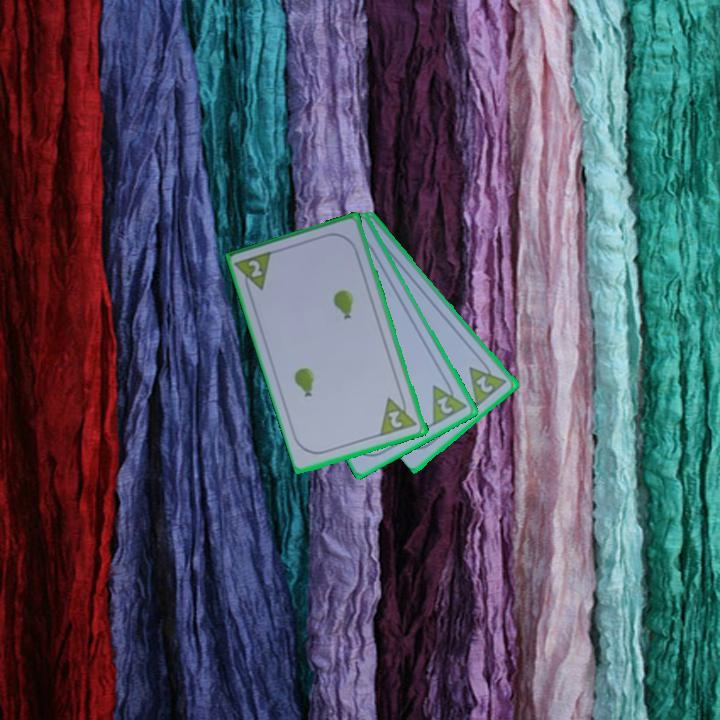2p: (466, 355, 511, 408), (429, 376, 471, 429), (377, 390, 421, 439), (233, 248, 276, 298)
